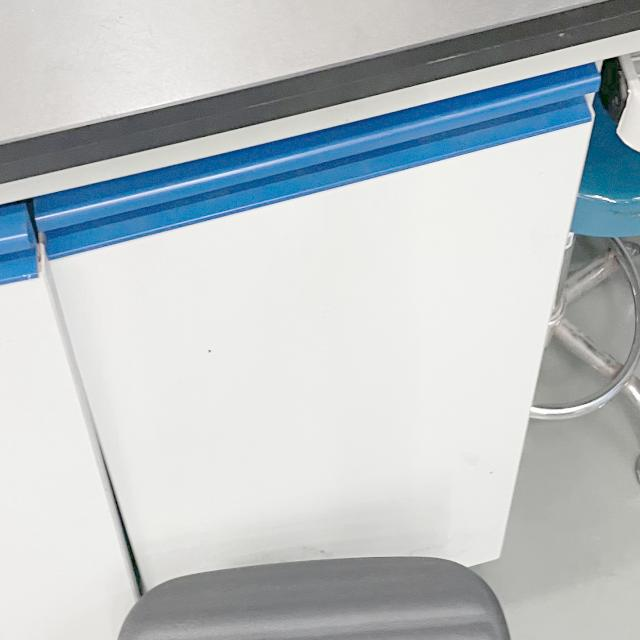Card: (0, 0, 105, 79)
